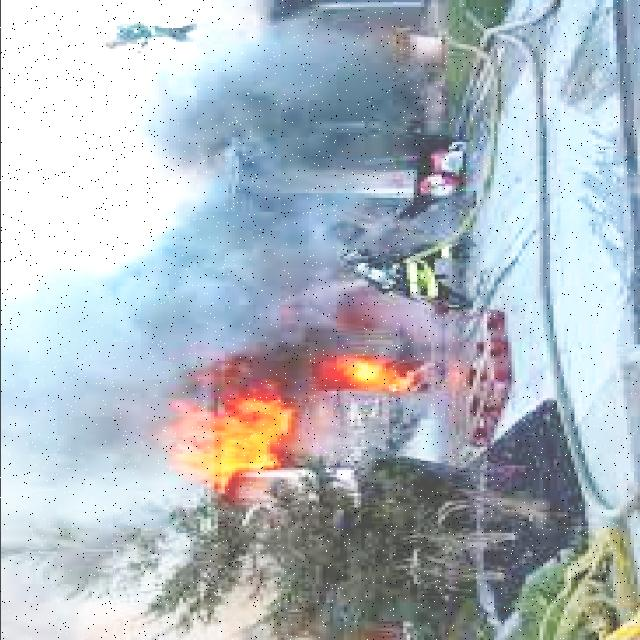api: (152, 371, 306, 499), (309, 331, 442, 413)
